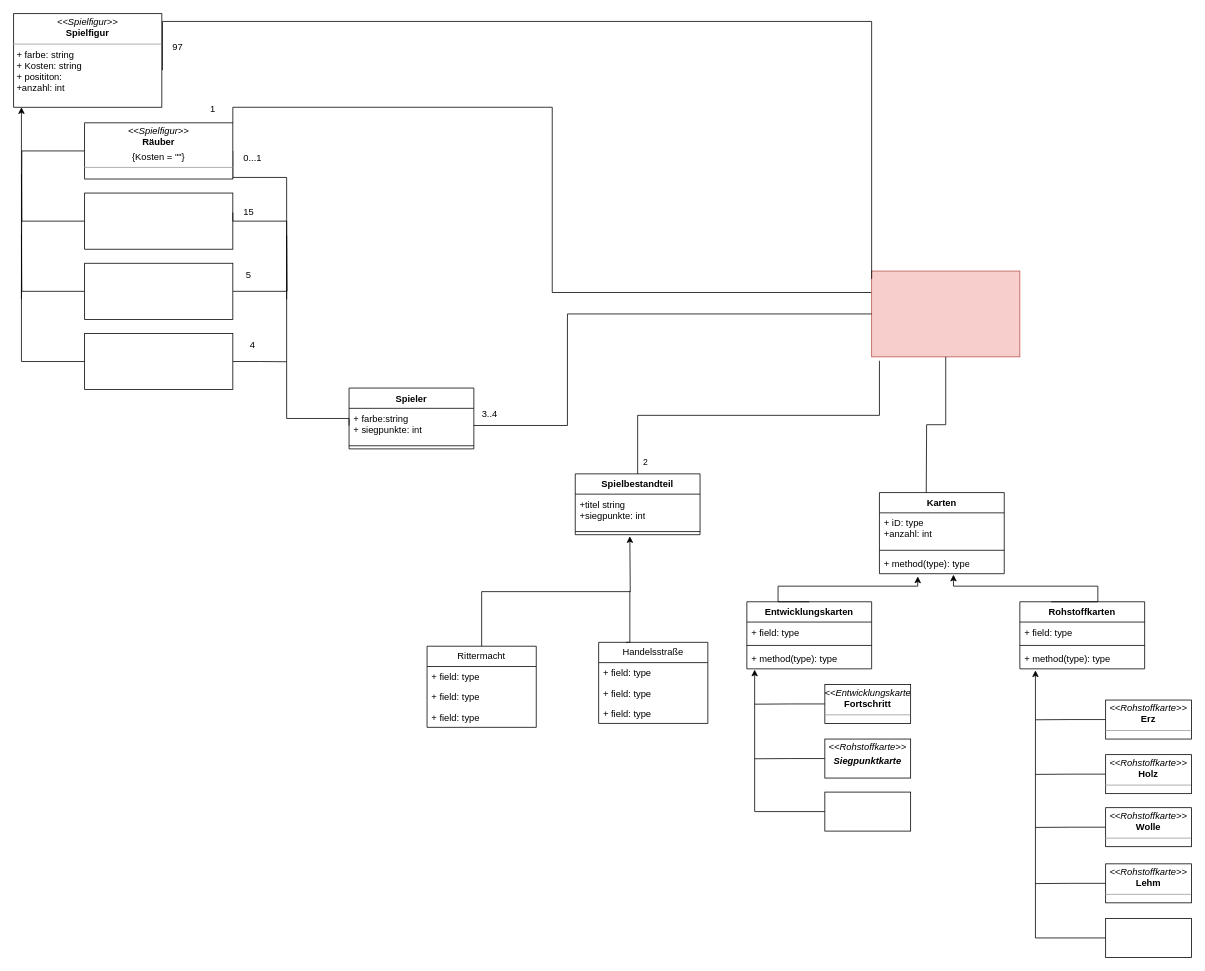
This 1205x971 diagram has some shape labels left out. Each missing label, with the centre of its shape:
<<Rohstoffkarte>> Getreide: point (1148, 937)
<<Rohstoffkarte>> Ritterkarte: point (867, 811)
<<Spiel>> Sieder von Catan + spielrunde: int + anleitung: strinf: point (945, 313)
<<Spielfigur>> Siedlung {Kosten = Getreide, Wolle, Holz, Lehm}: point (158, 290)
<<Spielfigur>> Stadt {Kosten = "Getreide, Erz"}: point (158, 361)
<<Spielfigur>> Strasse {Kosten = Holz, Lehm}: point (158, 220)
